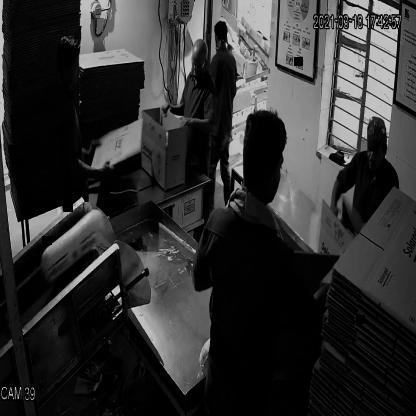no_glove: (60, 148, 129, 191), (172, 109, 218, 147)
